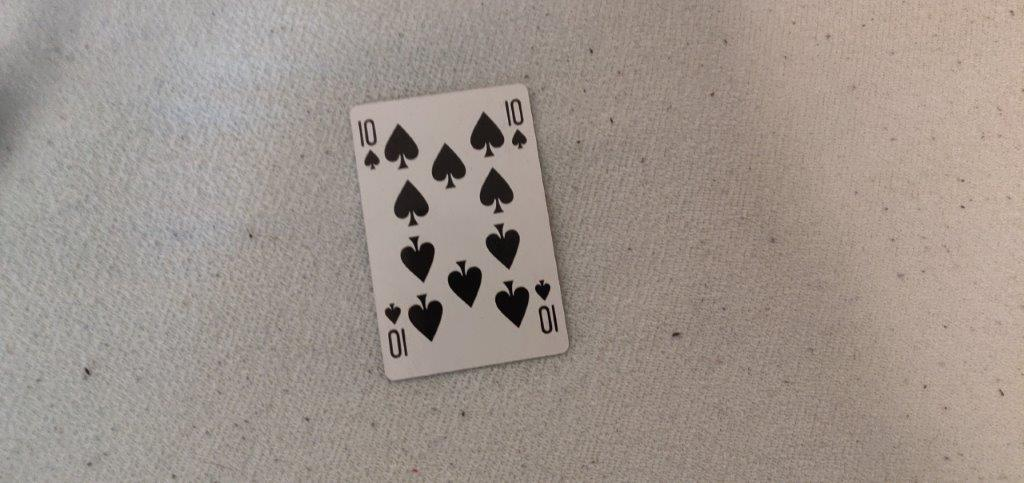10S: (352, 110, 387, 174), (498, 94, 533, 152)
